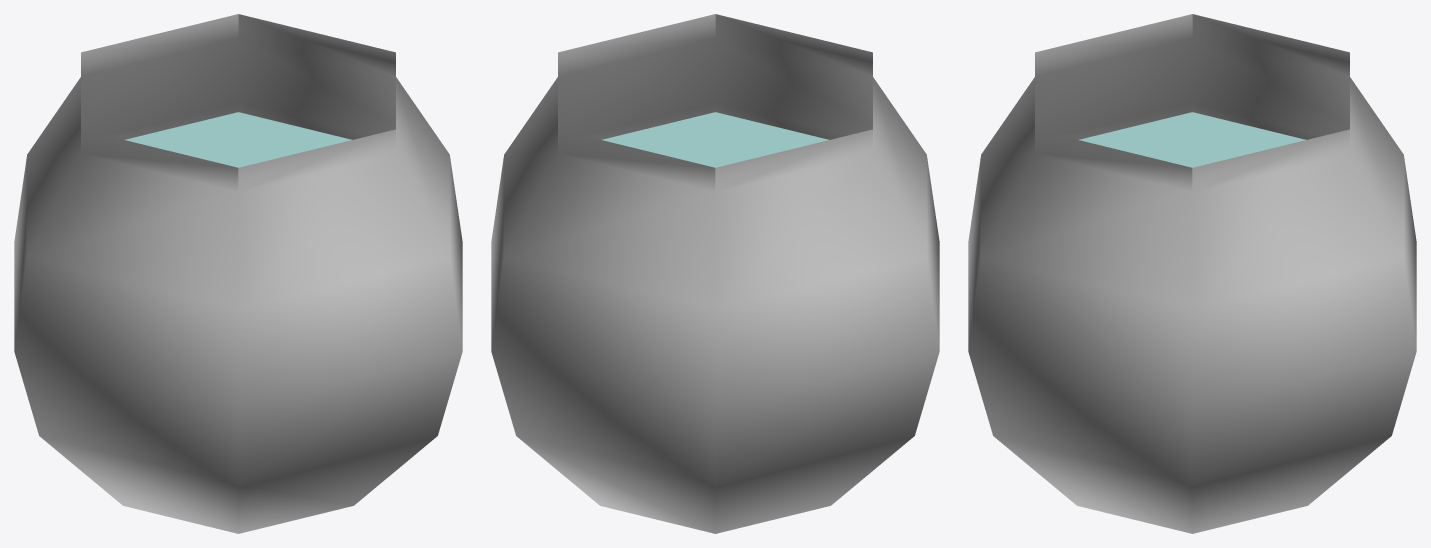
File: fishbowl.fbx
3 views of the same model, side by side, from view 1: azimuth 30°, elevation 25°; view 2: azimuth 150°, elevation 25°; view 3: azimuth 270°, elevation 25° (orthographic).
Parts seen in each view (by area): view 1: bowl, water; view 2: bowl, water; view 3: bowl, water.
Boxes of the visible parts, left/top/right/bottom form: bowl: left=14, top=14, right=462, bottom=533; water: left=125, top=112, right=351, bottom=167; bowl: left=491, top=14, right=939, bottom=533; water: left=602, top=112, right=828, bottom=167; bowl: left=968, top=14, right=1416, bottom=533; water: left=1079, top=112, right=1305, bottom=167.
Size of the model in its own units: 649 by 535 by 562.
